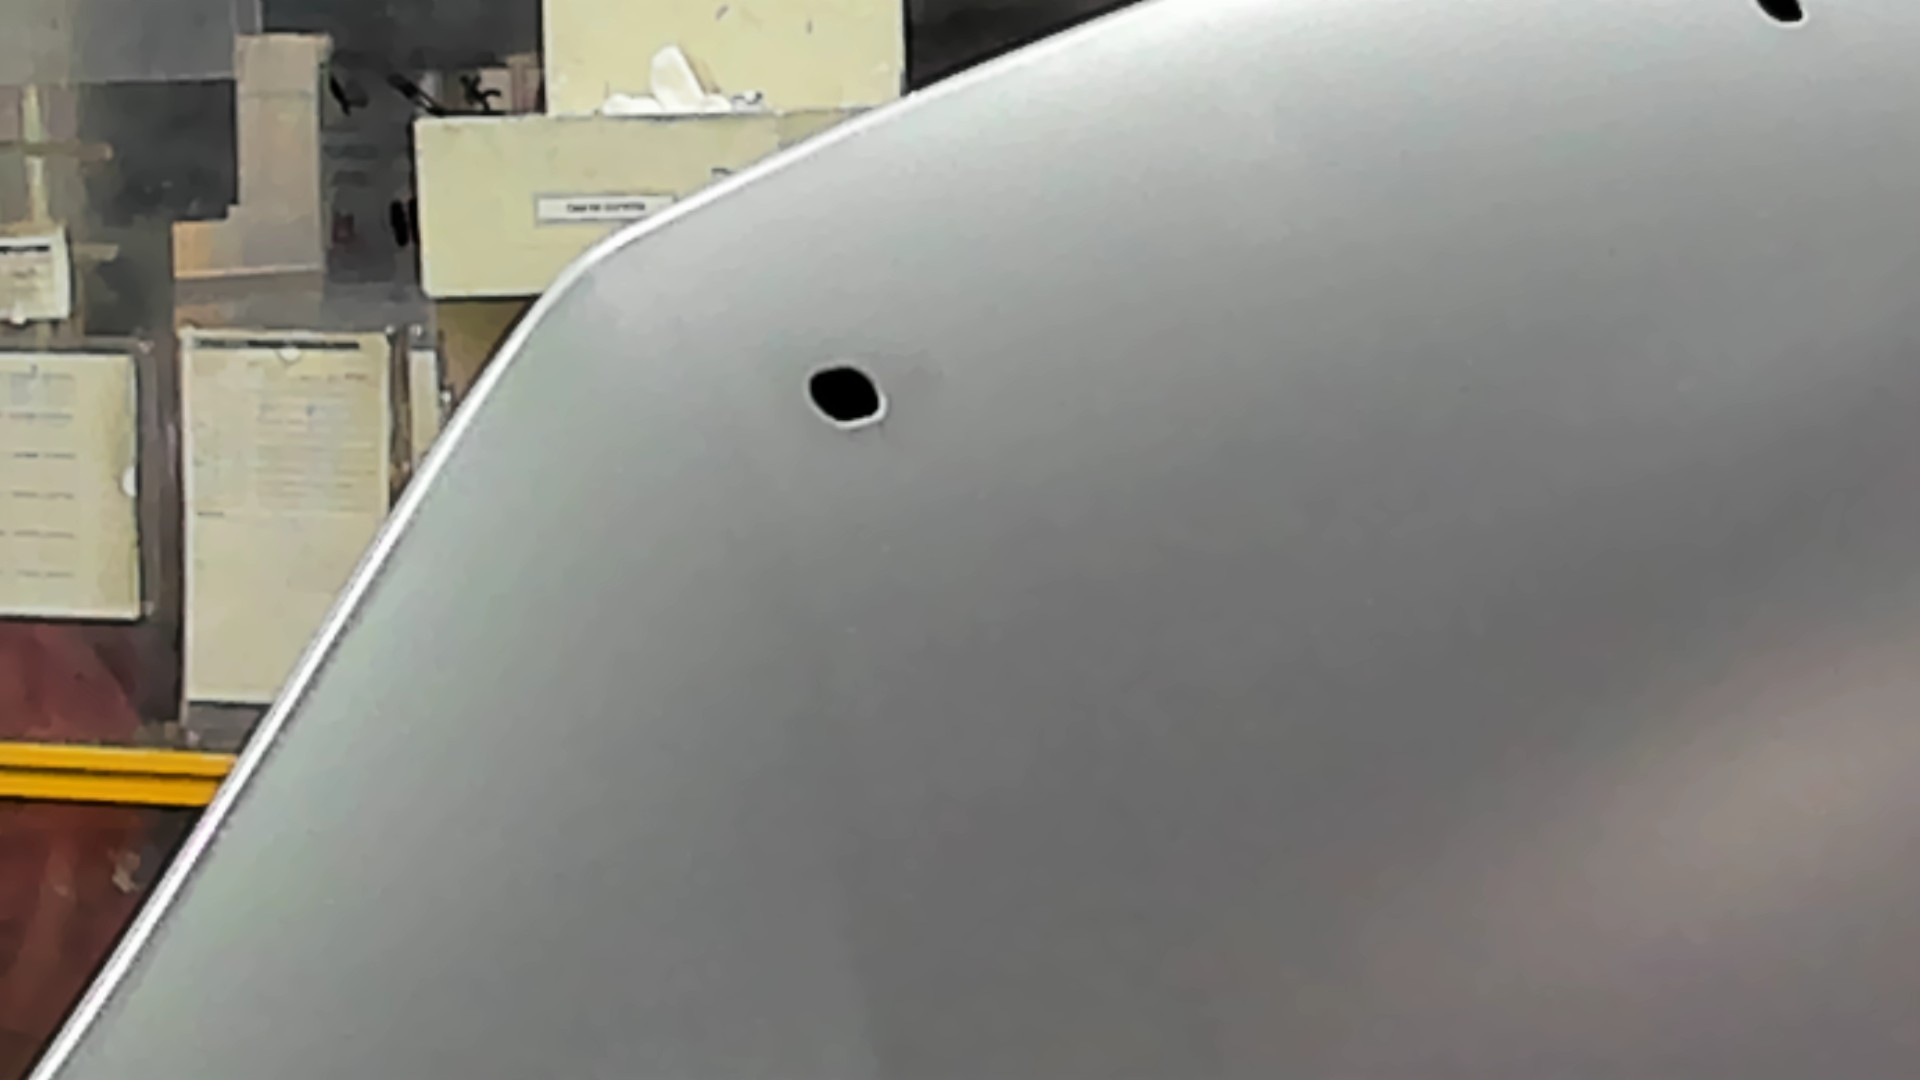amorfo: (798, 357, 902, 440), (1746, 1, 1813, 33)
capo: (990, 105, 1920, 1080)
